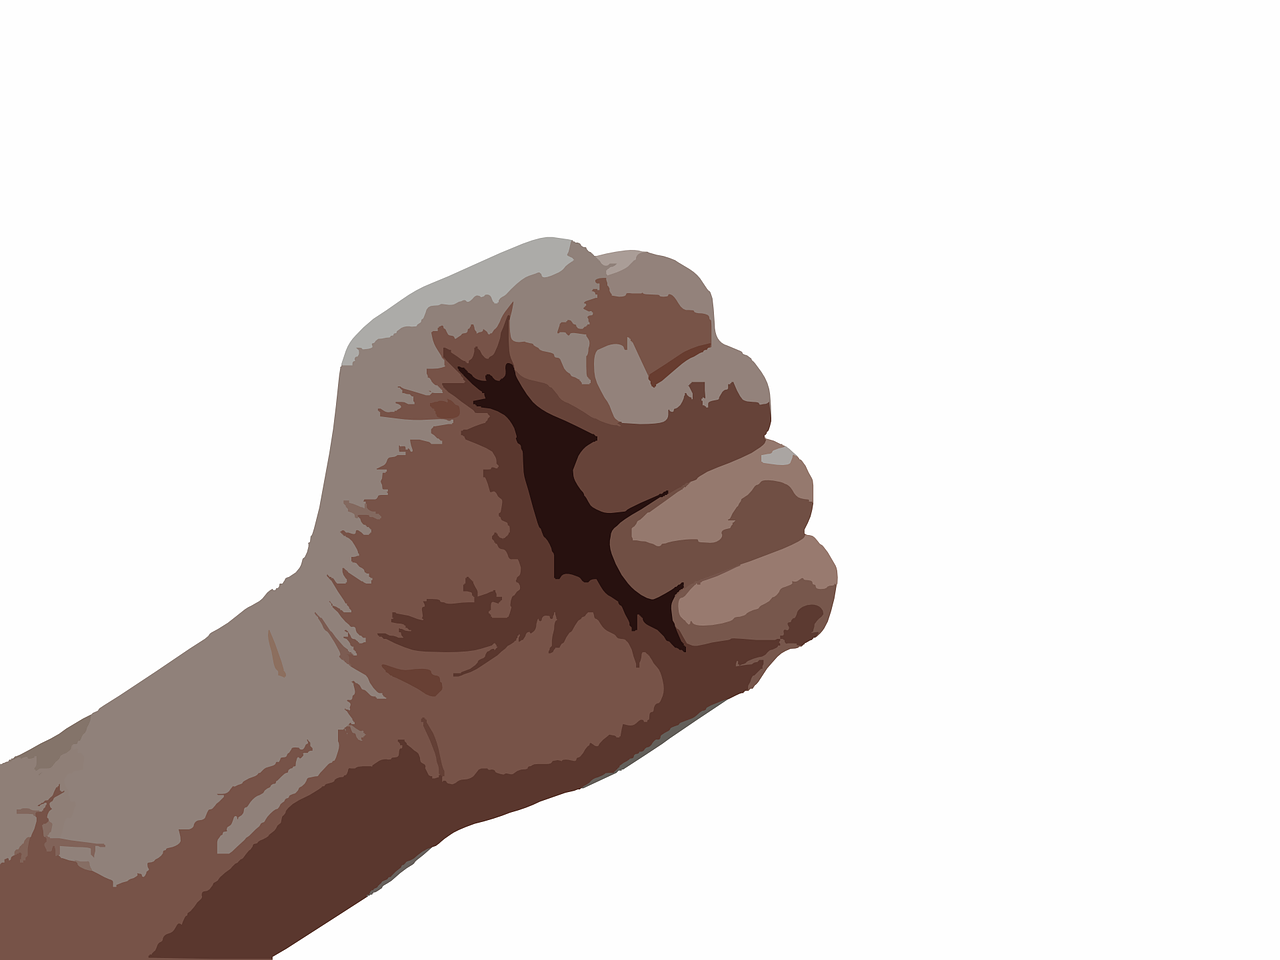fist: (323, 248, 817, 772)
